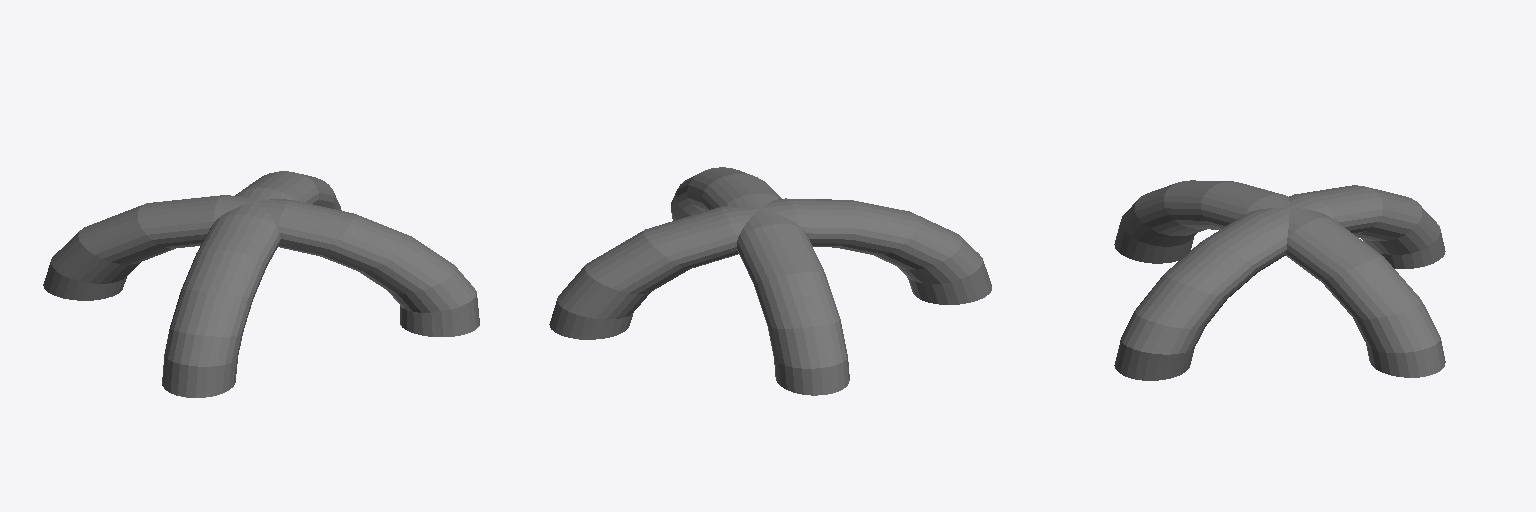
File: Supports_Kamino.obj
The picture shows the model from 3 angles: view 1: azimuth 30°, elevation 25°; view 2: azimuth 150°, elevation 25°; view 3: azimuth 270°, elevation 25°; orthographic projection.
Visible parts, largest first — view 1: Supports_Kamino.obj; view 2: Supports_Kamino.obj; view 3: Supports_Kamino.obj.
Boxes of the visible parts, box(x1,y1,x2,y2) form: Supports_Kamino.obj: box(43, 171, 479, 397); Supports_Kamino.obj: box(549, 167, 991, 395); Supports_Kamino.obj: box(1114, 180, 1445, 380).
Size of the model in its own units: 6065 by 1914 by 5648.